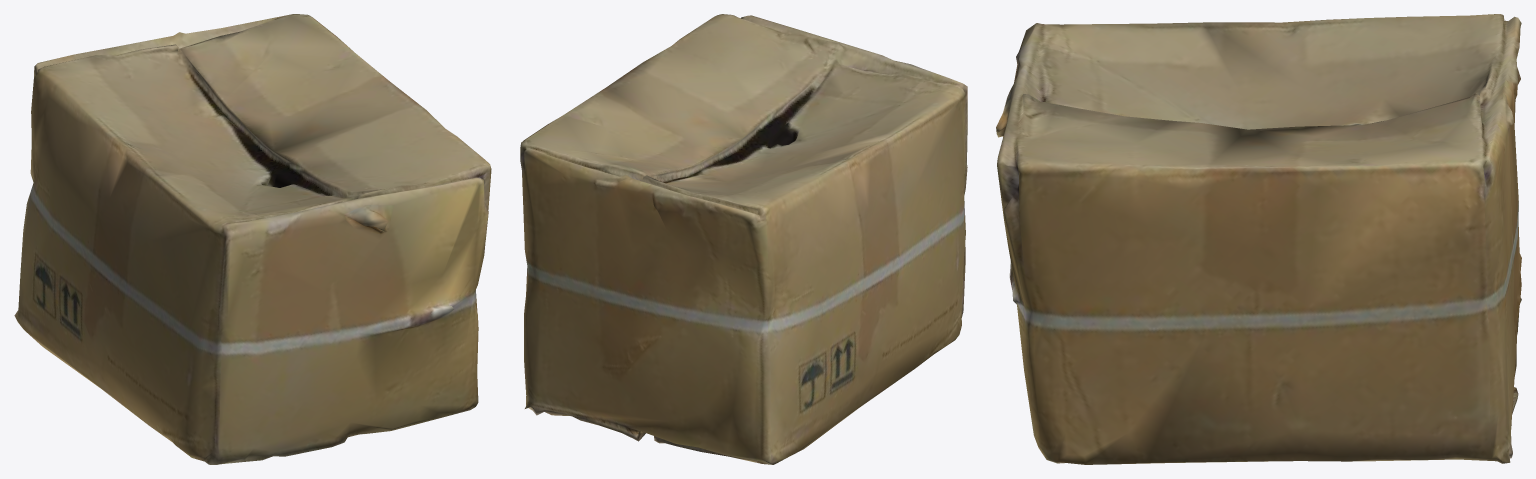
The model's file is cardboard_box_01.glb.
3 views of the same model, side by side, from view 1: azimuth 30°, elevation 25°; view 2: azimuth 150°, elevation 25°; view 3: azimuth 270°, elevation 25° (orthographic). The views are drawn at different scales.
Visible parts, largest first — view 1: cardboard_box_01; view 2: cardboard_box_01; view 3: cardboard_box_01.
Boxes of the visible parts, x1,y1,x2,y2 form: cardboard_box_01: [14, 14, 491, 464]; cardboard_box_01: [520, 14, 967, 464]; cardboard_box_01: [996, 14, 1521, 464].
Size of the model in its own units: 0.3867 by 0.3407 by 0.5159.
1 material, 1 textured.
